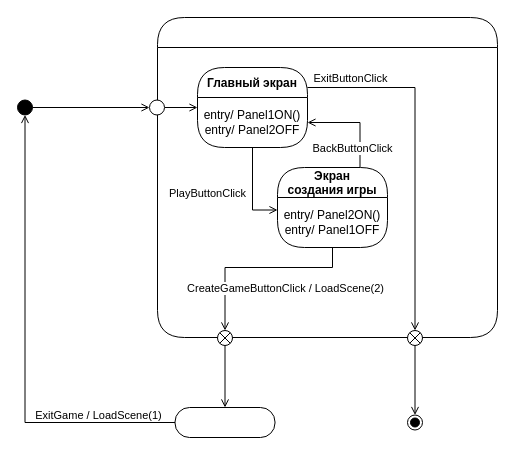
The diagram is 515 pixels wide and 455 high, and some of its shapes have lost their labels. The box of each missing label's shape, as (x1, y1, x2, y2) in pixels:
Главное меню: (156, 16, 498, 338)
Процесс игры: (174, 406, 275, 438)
